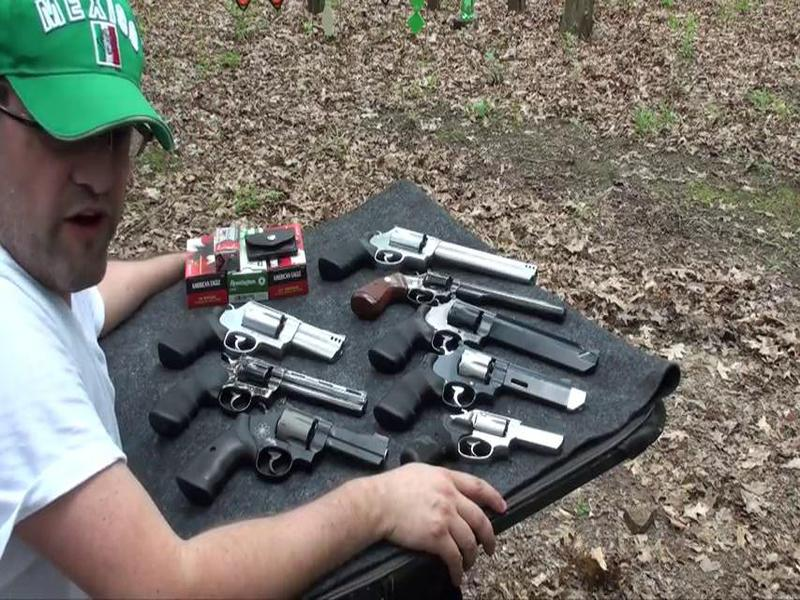Revolver: (137, 344, 373, 435)
